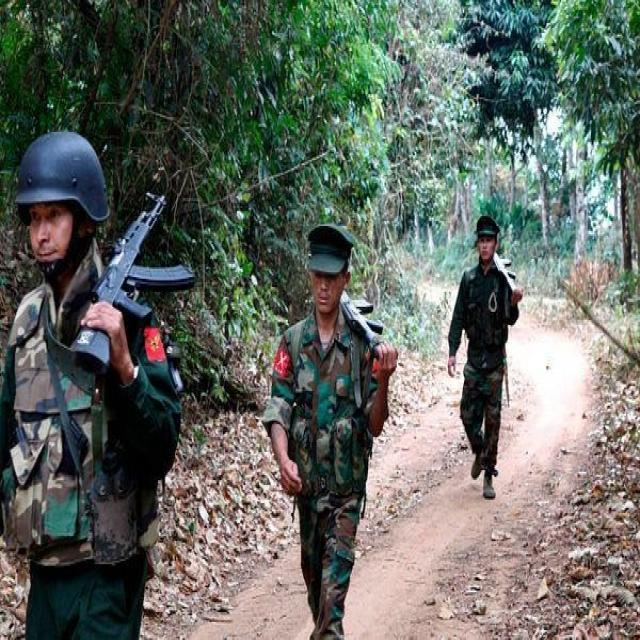gun: (69, 192, 194, 394), (335, 292, 397, 362), (491, 251, 521, 295)
